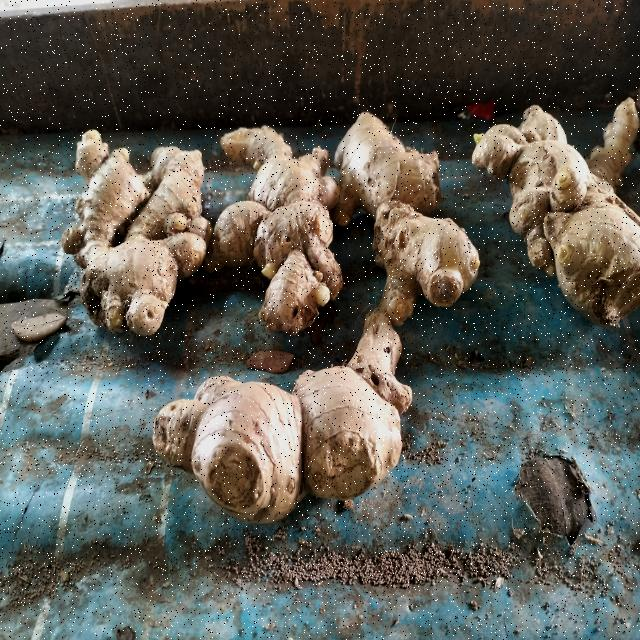ginger: (160, 314, 418, 530), (340, 98, 487, 322), (496, 84, 638, 311), (53, 136, 205, 343), (204, 120, 344, 323)
